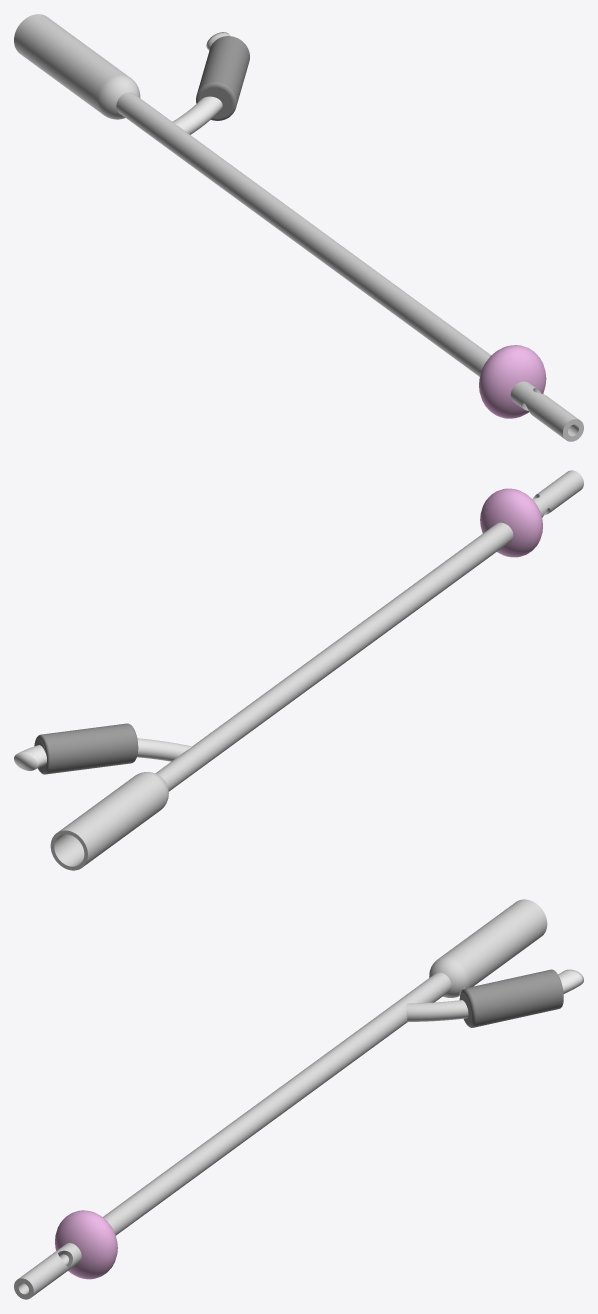
3 views of the same model, one above another, from view 1: azimuth 30°, elevation 25°; view 2: azimuth 150°, elevation 25°; view 3: azimuth 330°, elevation 25° (orthographic). The views are drawn at different scales.
Visible parts, largest first — view 1: Catheter_design_GUT_MO2.stl, Sphere, Catheter_design_GUT_MO2.stl.002, Cylinder; view 2: Catheter_design_GUT_MO2.stl, Catheter_design_GUT_MO2.stl.002, Sphere, Cylinder; view 3: Catheter_design_GUT_MO2.stl, Catheter_design_GUT_MO2.stl.002, Sphere, Cylinder.
Boxes of the visible parts, x1,y1,x2,y2 form: Catheter_design_GUT_MO2.stl: (14, 14, 583, 441); Sphere: (479, 345, 546, 418); Catheter_design_GUT_MO2.stl.002: (196, 36, 249, 120); Cylinder: (172, 32, 230, 134); Catheter_design_GUT_MO2.stl: (50, 470, 583, 870); Catheter_design_GUT_MO2.stl.002: (34, 723, 138, 774); Sphere: (480, 488, 542, 557); Cylinder: (14, 738, 191, 770); Catheter_design_GUT_MO2.stl: (14, 899, 547, 1299); Catheter_design_GUT_MO2.stl.002: (459, 969, 563, 1027); Sphere: (55, 1210, 117, 1279); Cylinder: (405, 969, 583, 1021).
Bounding box in the file's own units: 469 × 200 × 2812.
